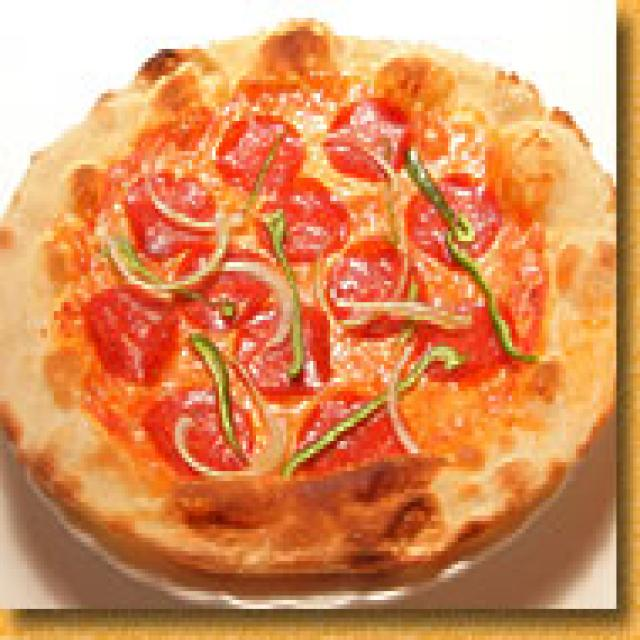汉堡快餐: (0, 0, 600, 587)
